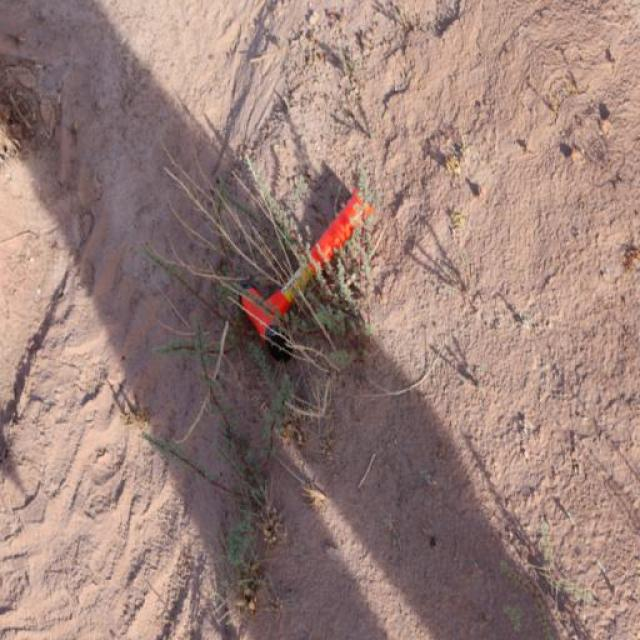mallet: (235, 182, 376, 362)
